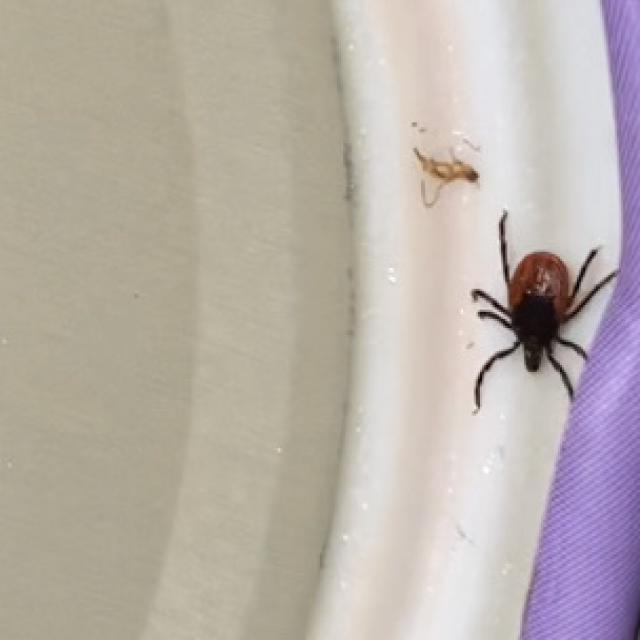Ixodes Ricinus-F: (472, 222, 613, 402)
